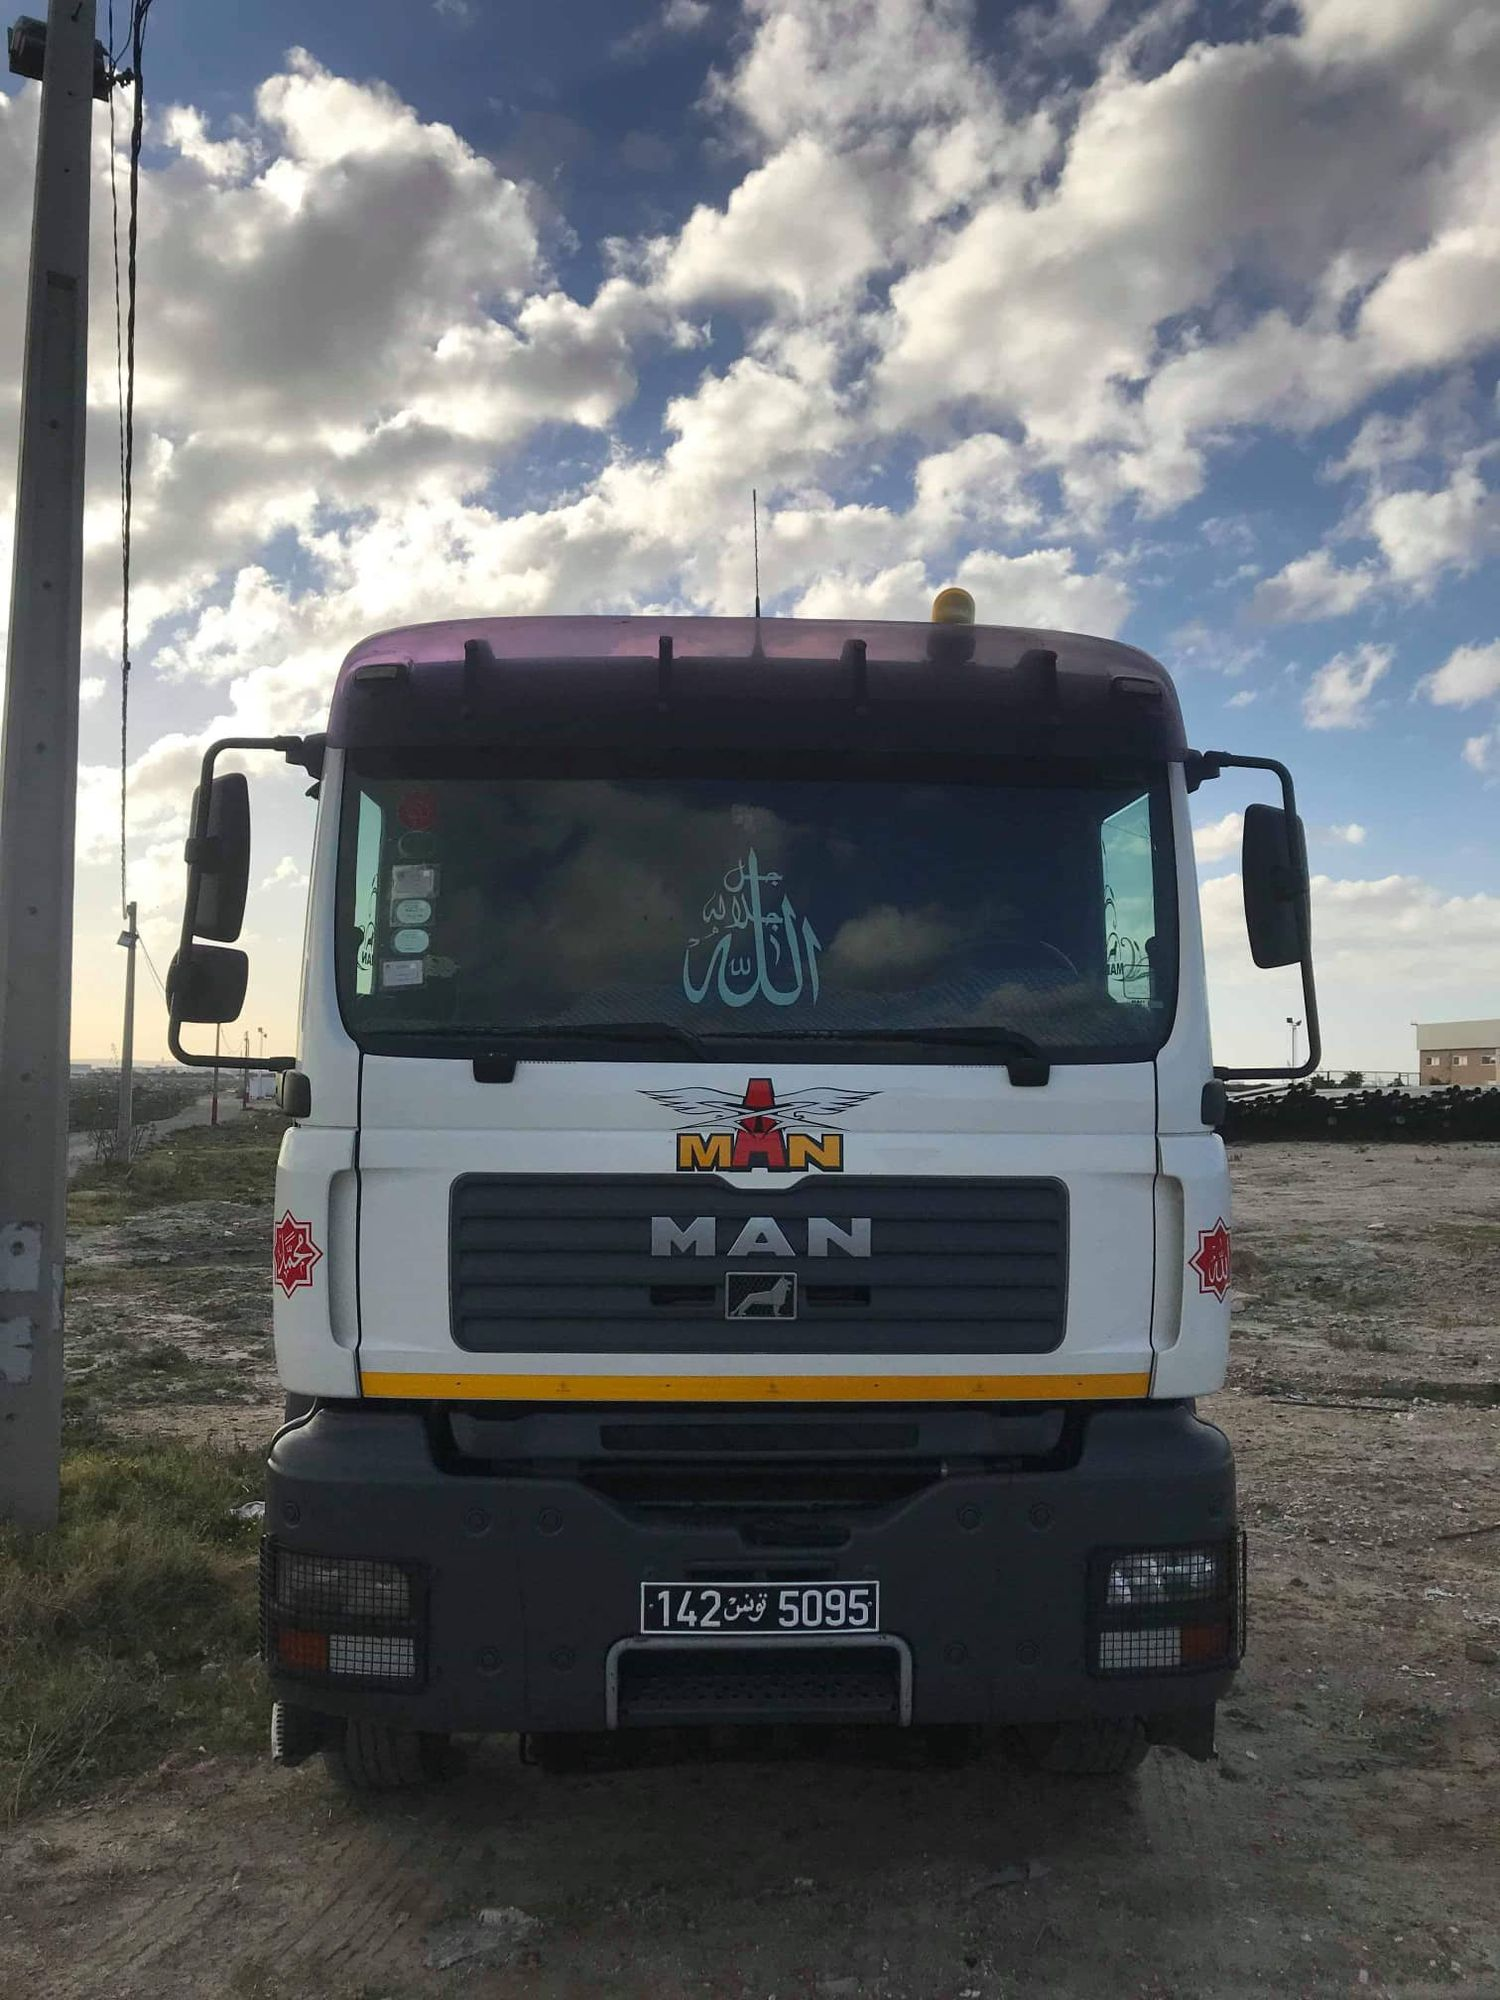LP: (639, 1579, 886, 1634)
